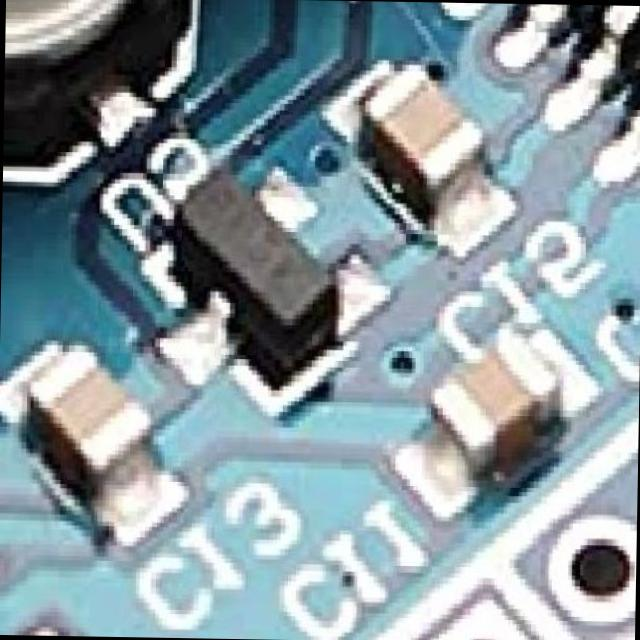capacitor: (21, 344, 156, 502), (432, 320, 566, 466), (371, 66, 491, 200)
transistor: (161, 176, 342, 373)
